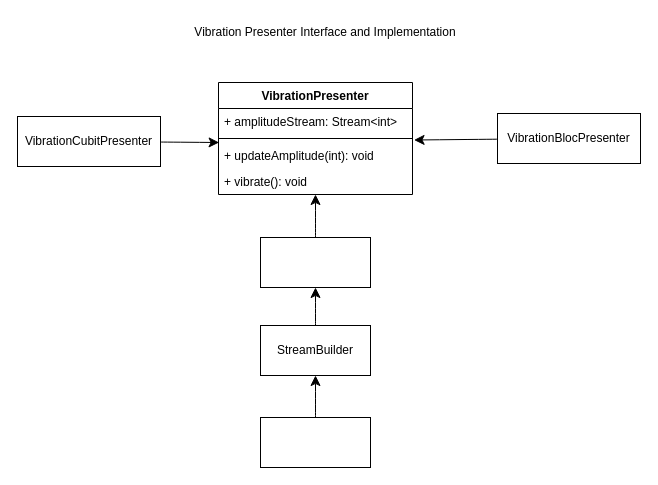
This 658x485 diagram has some shape labels left out. The shapes that lost their labels are listed below. From the top down, each one's centre as x and y in pixels, then its label:
the point at 315,262: VibrationPage
the point at 315,442: Slider Widget
